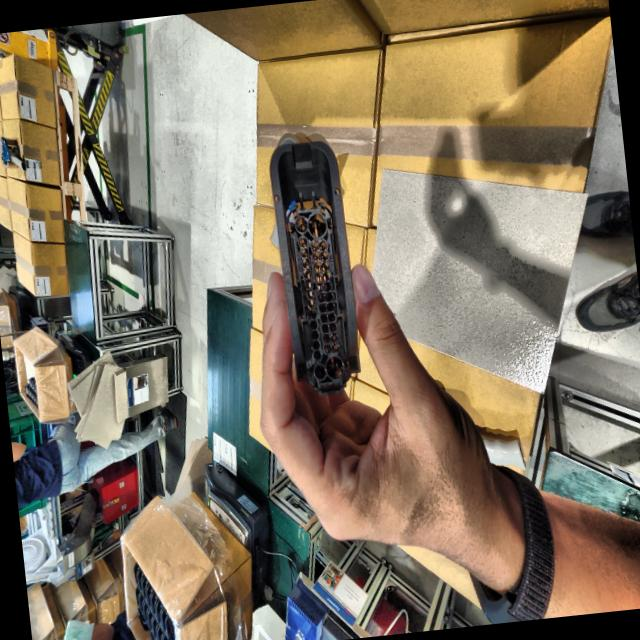P38: (270, 134, 359, 394)
